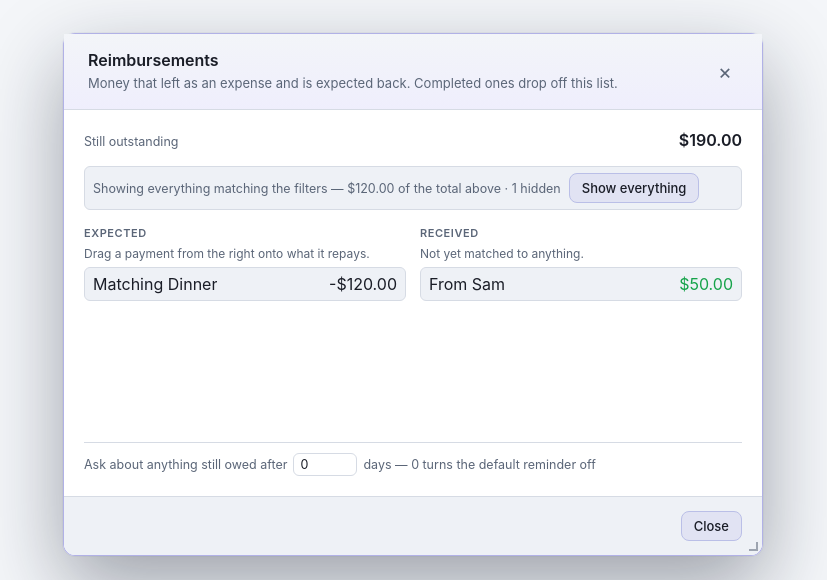
Test case: the page filters › lists only matching expected rows, keeps every received row, and can show everything
The image size is (827, 580).
Check: the button "Matching Dinner -$120.00" is shown, box x1=85 y1=268 x2=405 y2=300
Check: the button "Other Person Dinner" is not shown
Click the button "Show everything".
click(634, 188)  # box x1=569 y1=173 x2=699 y2=203
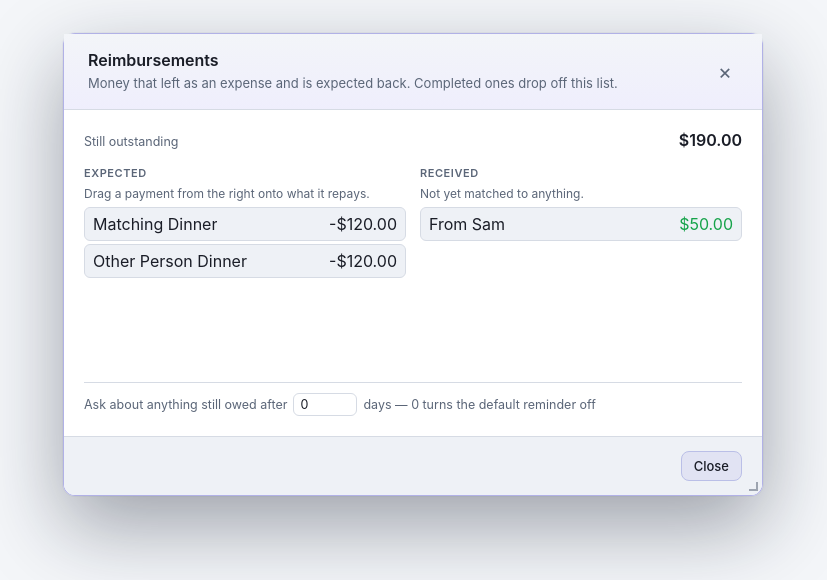
Check: the button "Other Person Dinner -$120.00" is shown, box x1=85 y1=245 x2=405 y2=277
